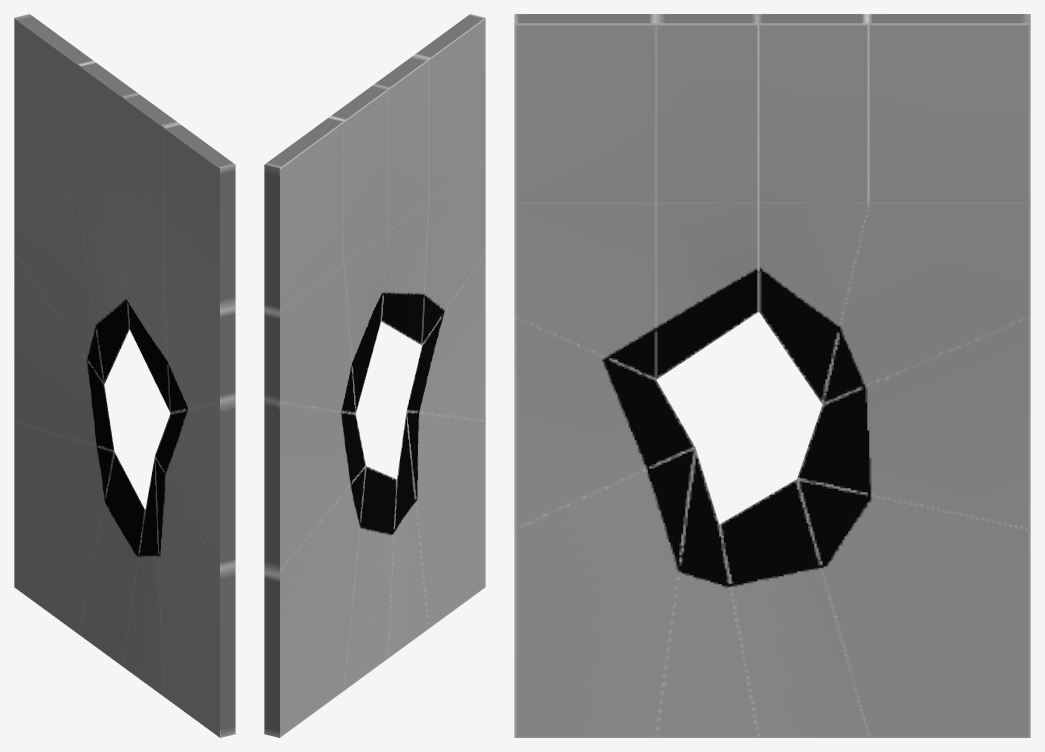
The model's file is keyDoor.fbx.
3 views of the same model, side by side, from view 1: azimuth 30°, elevation 25°; view 2: azimuth 150°, elevation 25°; view 3: azimuth 270°, elevation 25° (orthographic). The views are drawn at different scales.
Visible parts, largest first — view 1: pasted__Door; view 2: pasted__Door; view 3: pasted__Door.
Part boxes in pixels (box(x1,y1,x2,y2)): pasted__Door: box(14, 14, 235, 737); pasted__Door: box(264, 14, 485, 737); pasted__Door: box(514, 14, 1030, 737).
Size of the model in its own units: 0.0717 by 2.54 by 1.66.
Materials: 1 (1 with a texture image).
